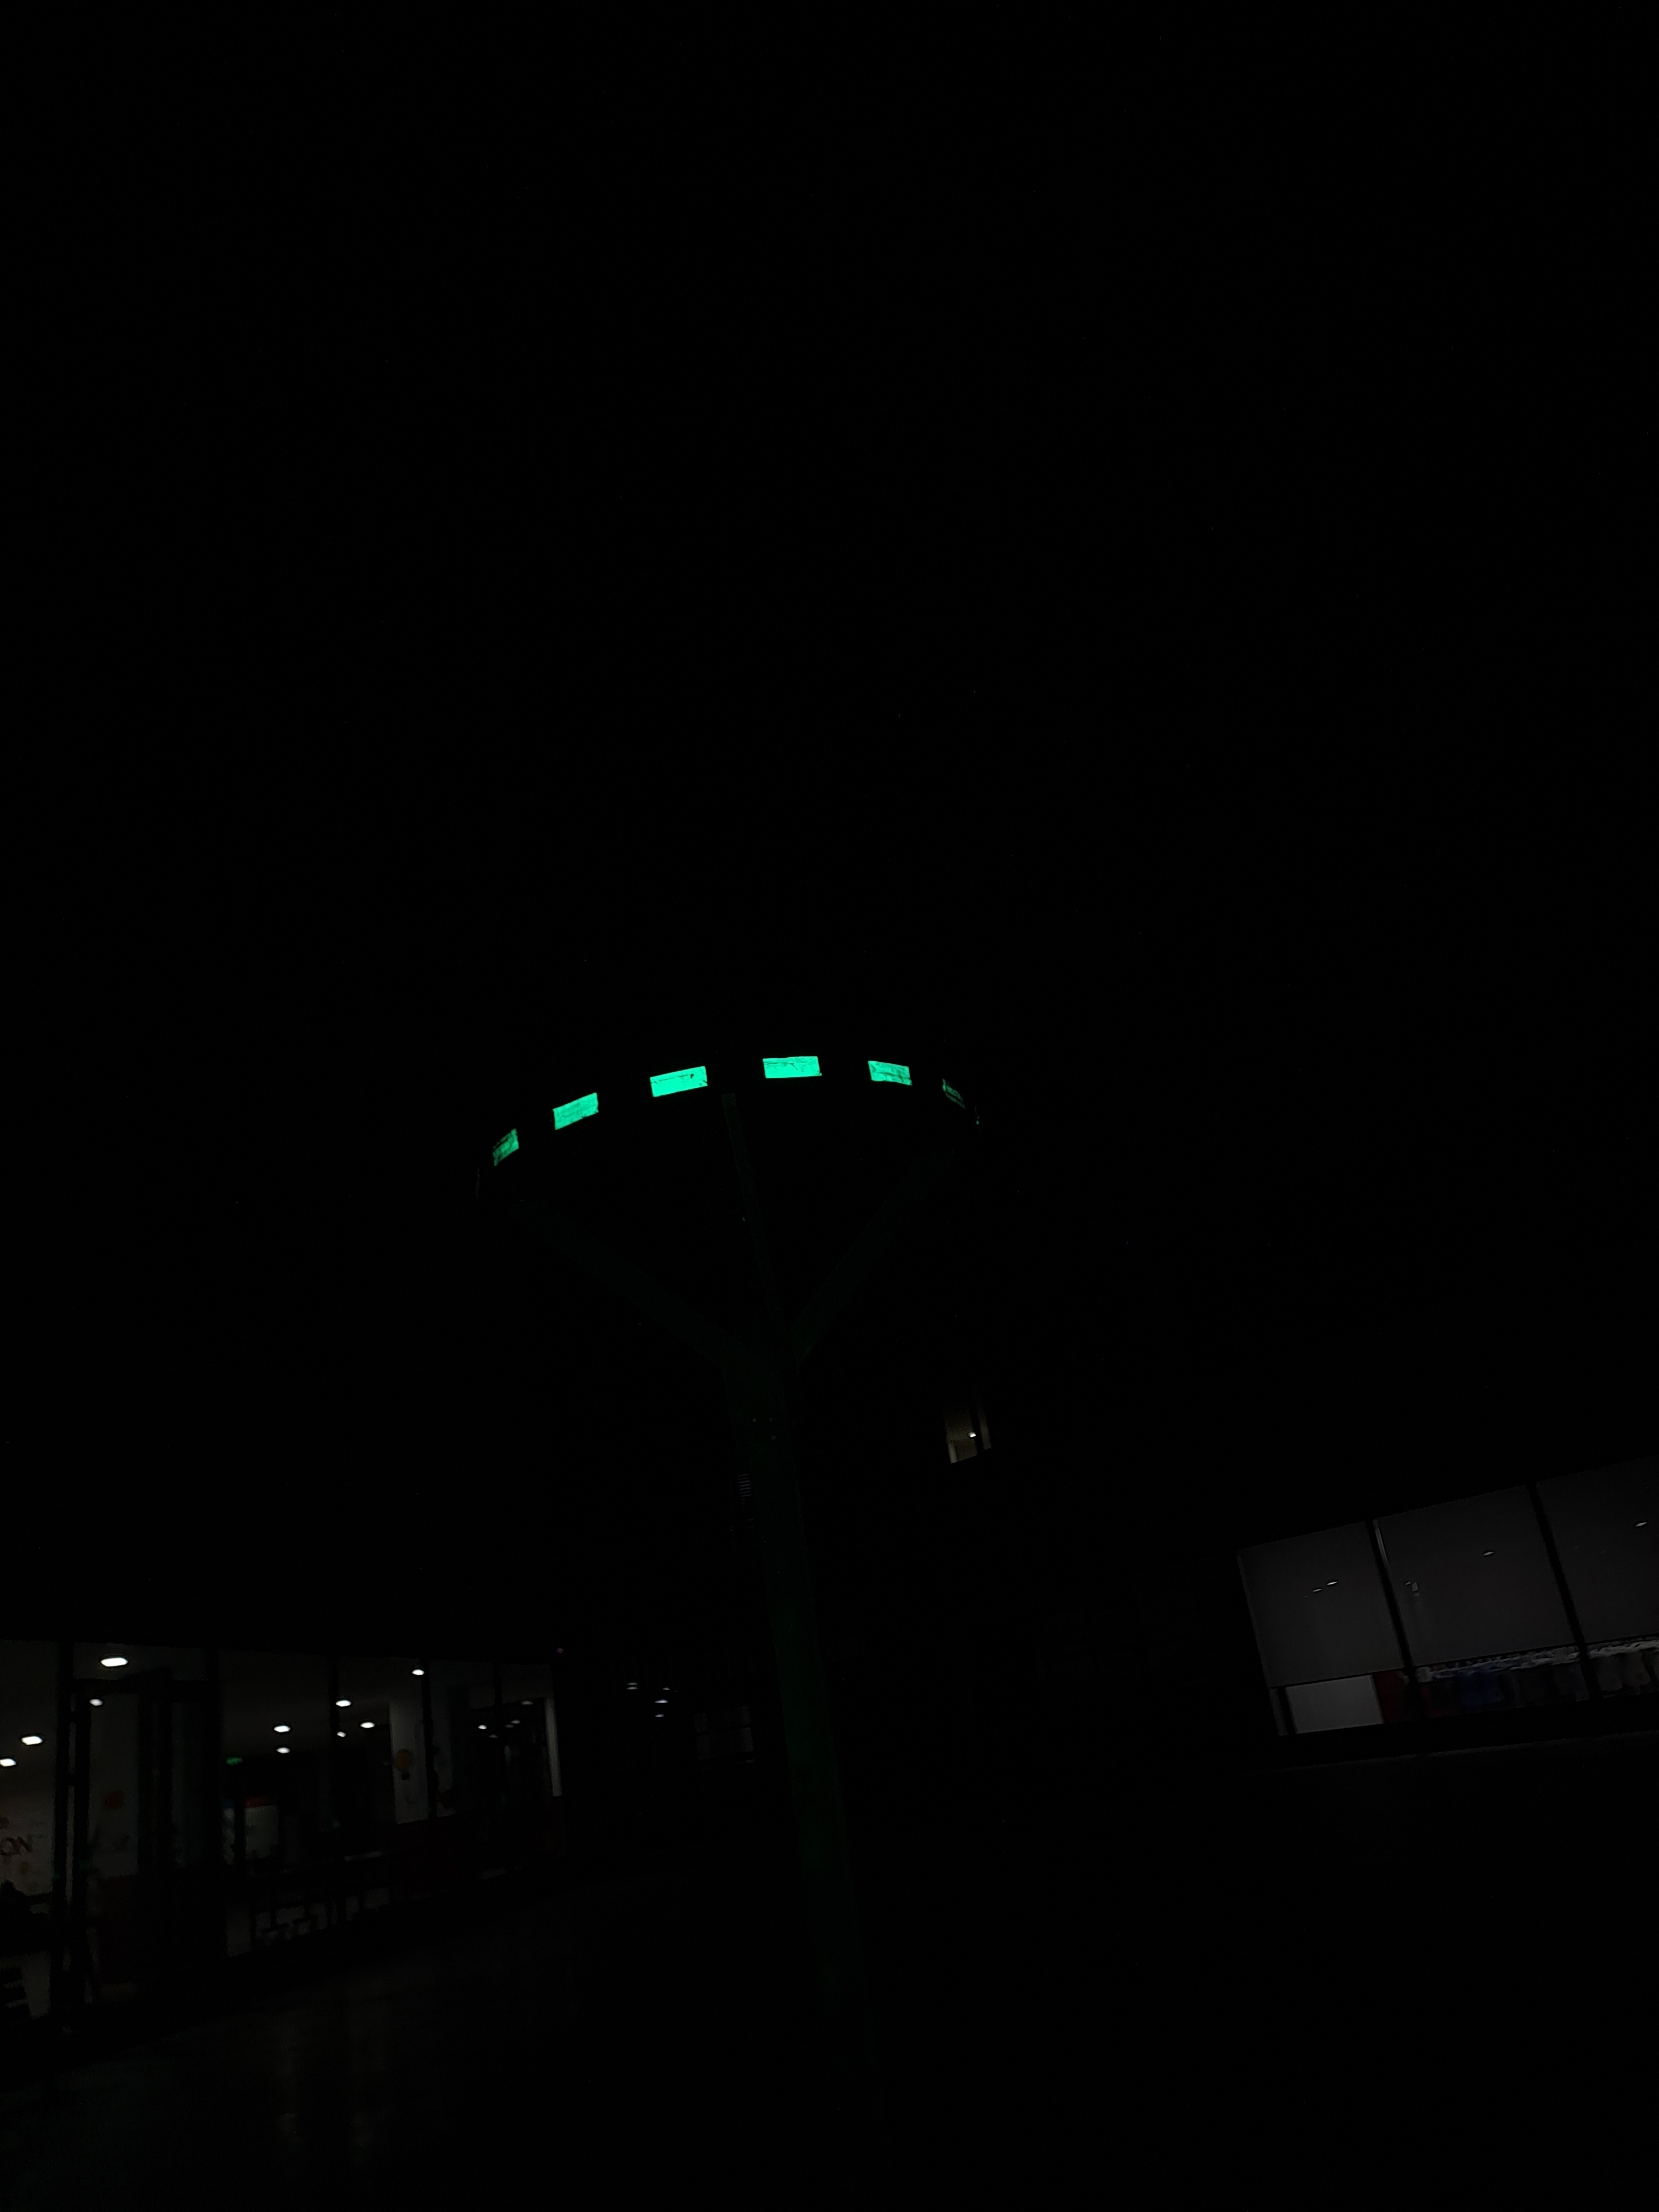hoop: (464, 1052, 922, 1172)
